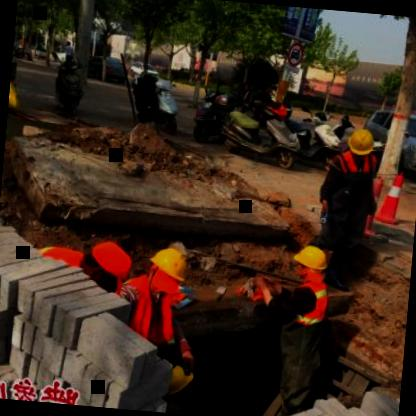helmet: (146, 244, 187, 298), (290, 244, 328, 278), (346, 127, 376, 160)
